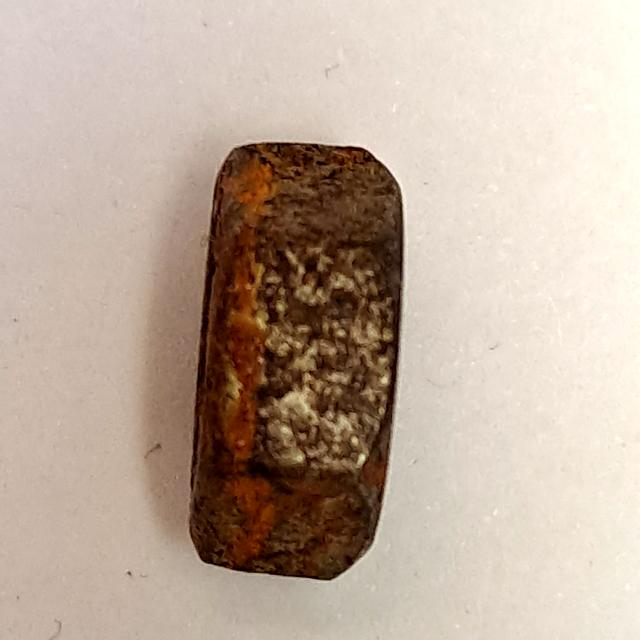Side_Rust: (171, 126, 444, 598)
